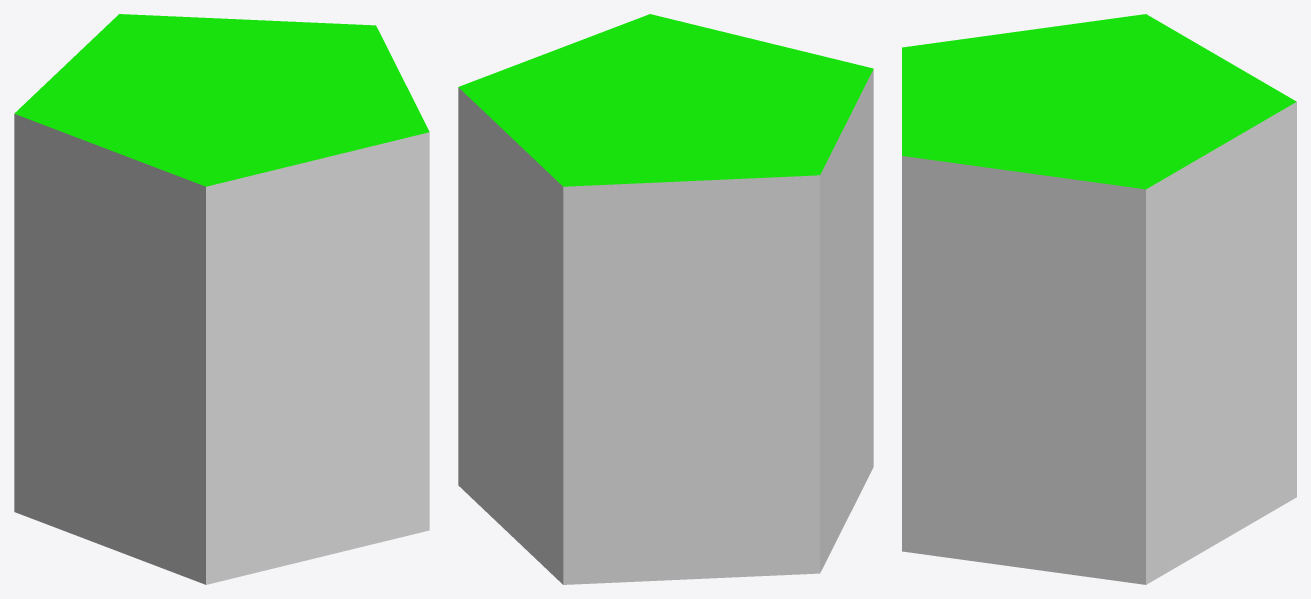
File: PentagonObjectWithColor.fbx
3 renders of one model, left to right at view 1: azimuth 30°, elevation 25°; view 2: azimuth 150°, elevation 25°; view 3: azimuth 270°, elevation 25°, orthographic.
Parts seen in each view (by area): view 1: Pentagon; view 2: Pentagon; view 3: Pentagon.
Part boxes in pixels (left/top/right/bottom): Pentagon: left=14, top=14, right=429, bottom=584; Pentagon: left=458, top=14, right=873, bottom=584; Pentagon: left=902, top=14, right=1296, bottom=584.
Size of the model in its own units: 190 by 200 by 181.
Materials: 1 (1 with a texture image).
